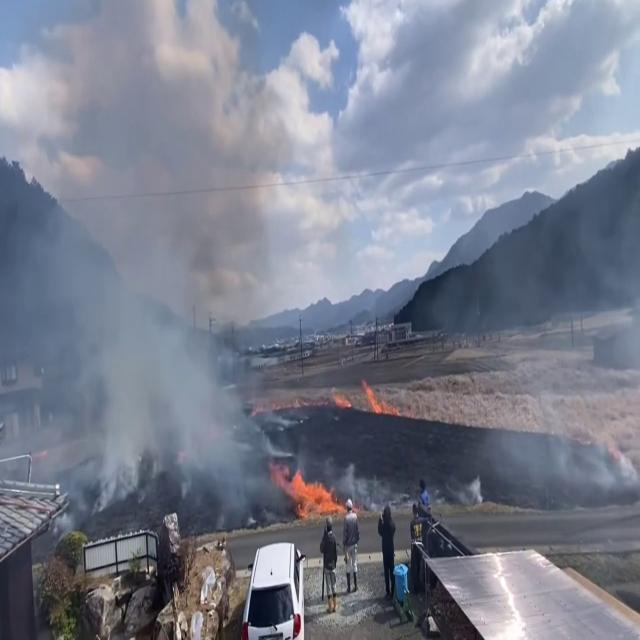Fire: (283, 465, 351, 522), (328, 374, 394, 417)
Smoke: (0, 63, 287, 523), (504, 162, 640, 500)
